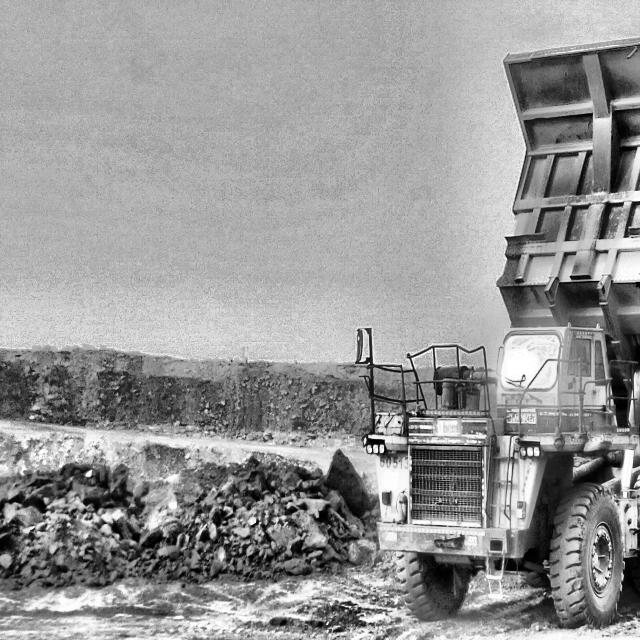dump_truck: (365, 40, 640, 623)
